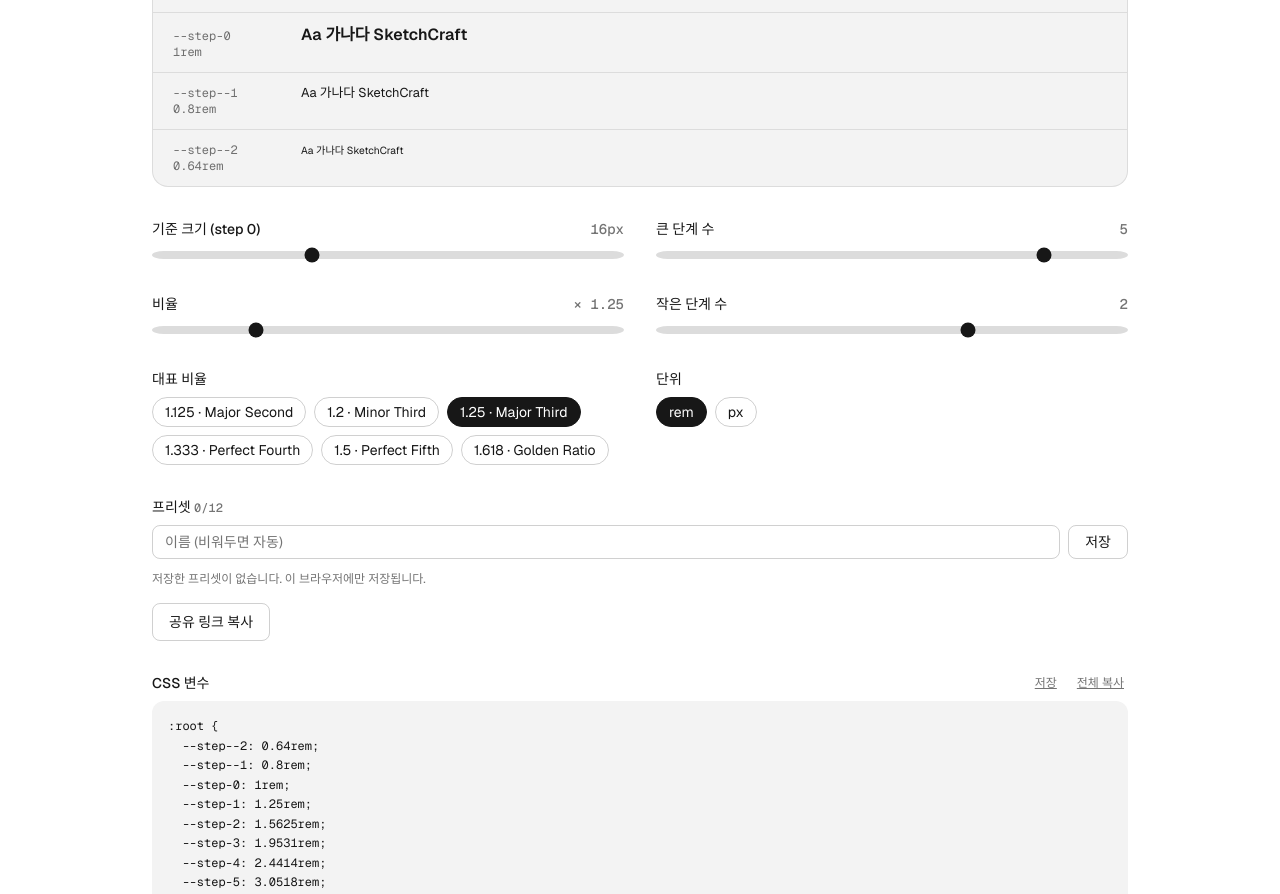
Test: TypeScaleMaker › 비율 칩을 누르면 그 비율이 적용되고 눌린 상태가 된다
(page scrolled)
Click the button "1.5 · Perfect Fifth" at (387, 450), box [321,435,453,465]
(page scrolled)
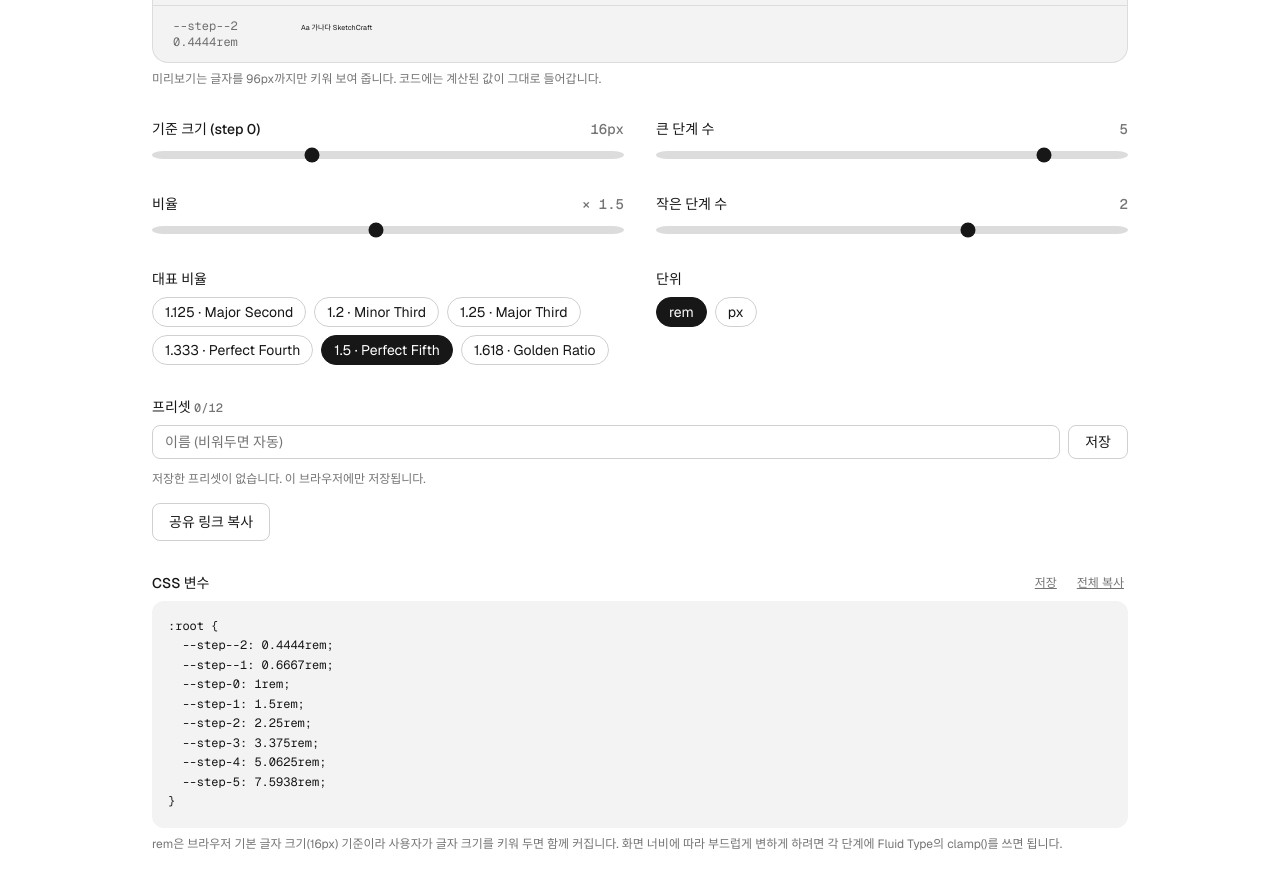
Now the text named "CSS 변수 코드" shows "--step-1: 1.5rem;", box [168,618,334,809]
